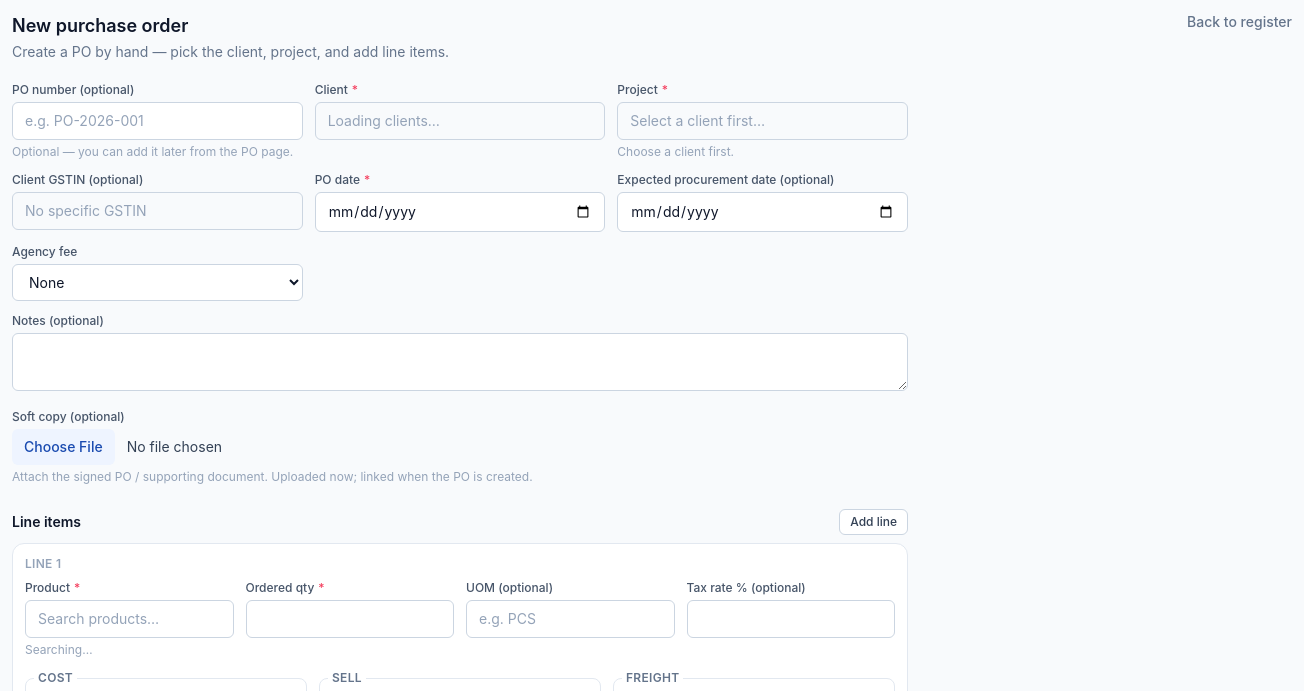
PO create form — tax pre-fill from the product GST rate › picking a product for a blank line pre-fills the line's tax rate from its gst_rate
expect the field labelled "PO number" is shown: met, box [12, 102, 303, 140]
Focus the dropdown labelled "Product *" at (129, 619), box [25, 600, 234, 638]
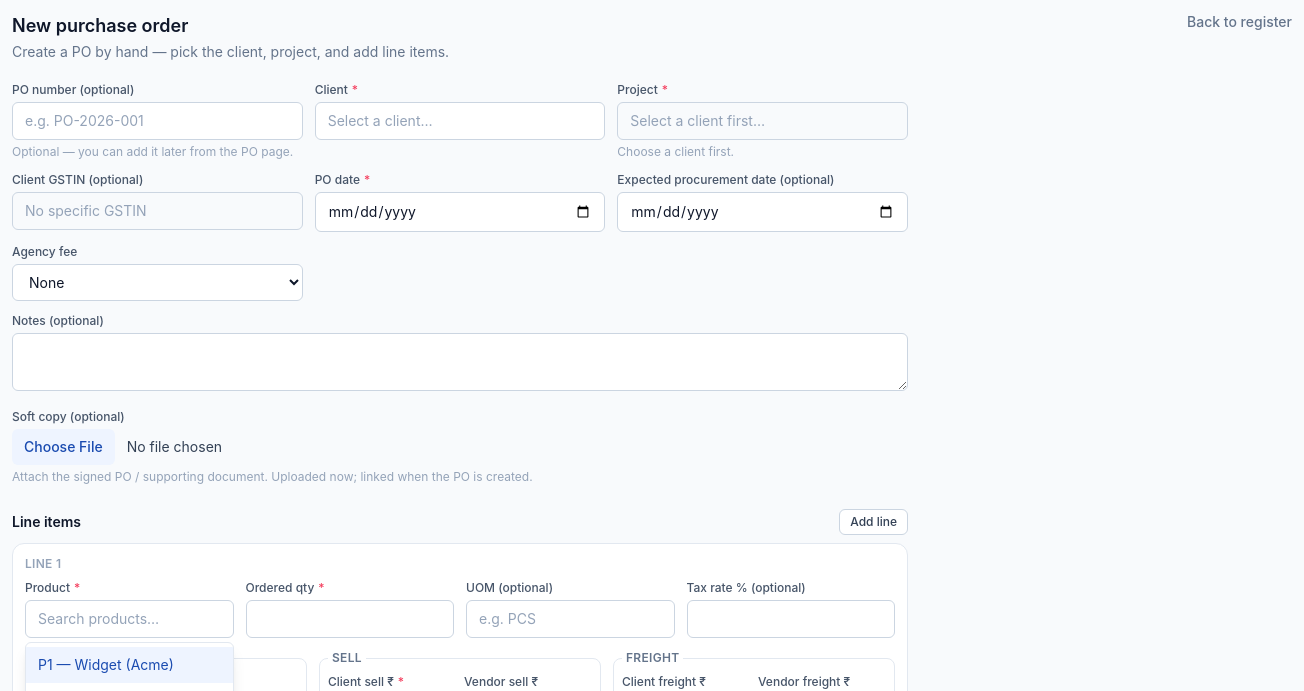
Press the mouse on the option "P1 — Widget (Acme)" at (129, 665), box [26, 647, 232, 683]
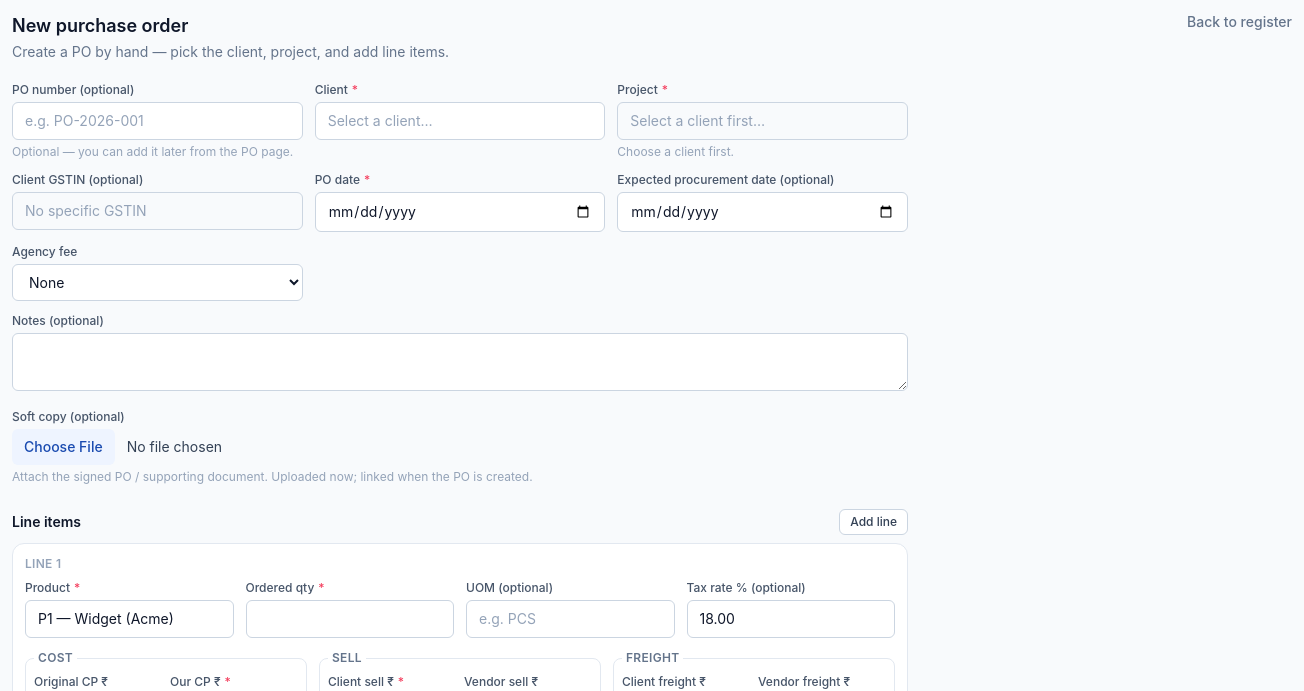
expect the field labelled "Tax rate % (optional)" holds "18.00": met, box [686, 600, 895, 638]
